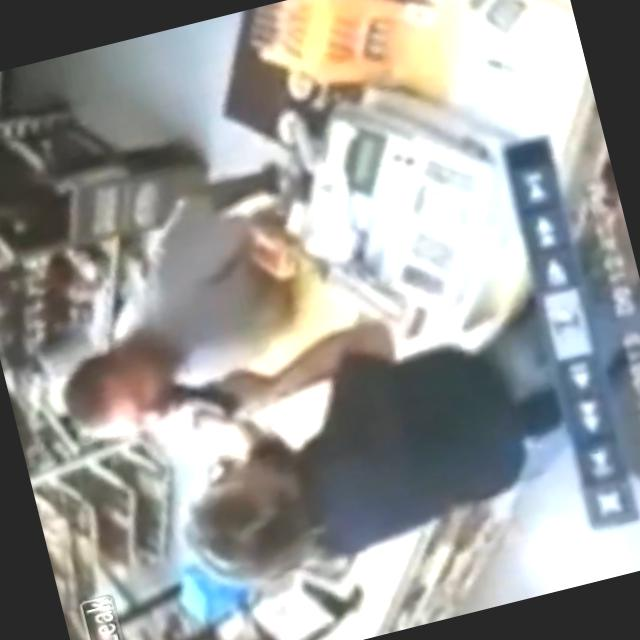handgun: (146, 352, 250, 436)
